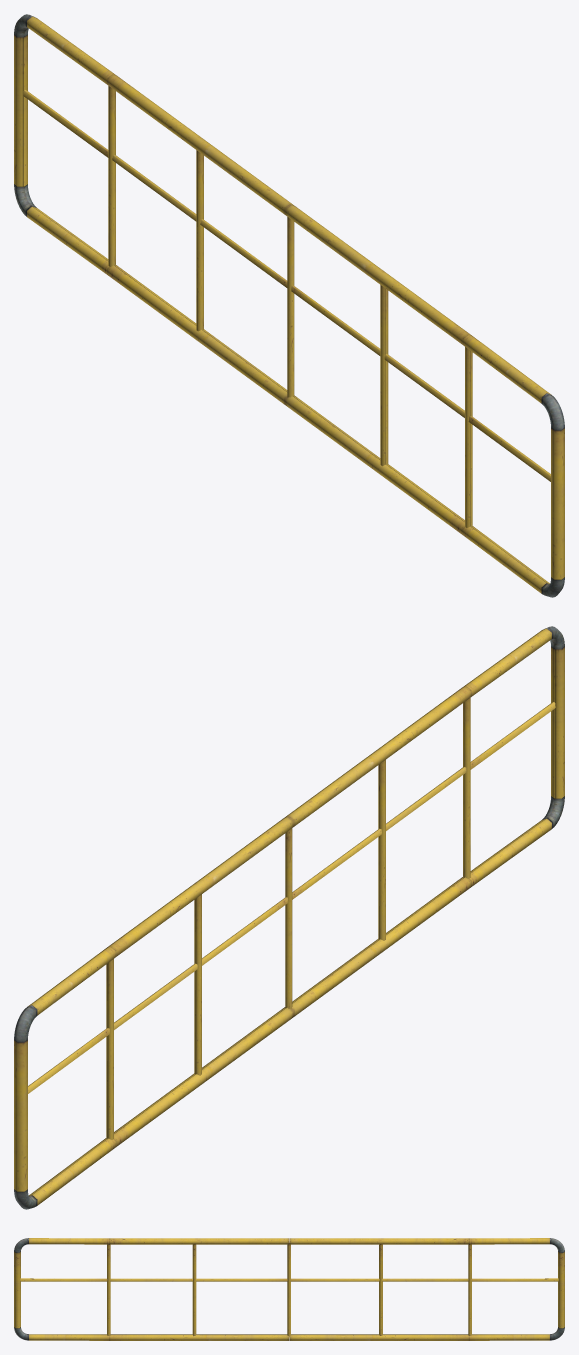
Rendered from Railing_00.fbx.
The picture shows the model from 3 angles, top to bottom: view 1: azimuth 30°, elevation 25°; view 2: azimuth 150°, elevation 25°; view 3: azimuth 270°, elevation 25°; orthographic projection. The views are drawn at different scales.
Parts seen in each view (by area): view 1: Railing_00; view 2: Railing_00; view 3: Railing_00.
Part boxes in pixels (left/top/right/bottom): Railing_00: left=14, top=14, right=564, bottom=597; Railing_00: left=14, top=626, right=564, bottom=1209; Railing_00: left=14, top=1238, right=564, bottom=1340.
Bounding box in the file's own units: 5.93 × 97.99 × 477.
Materials: 1 (1 with a texture image).
